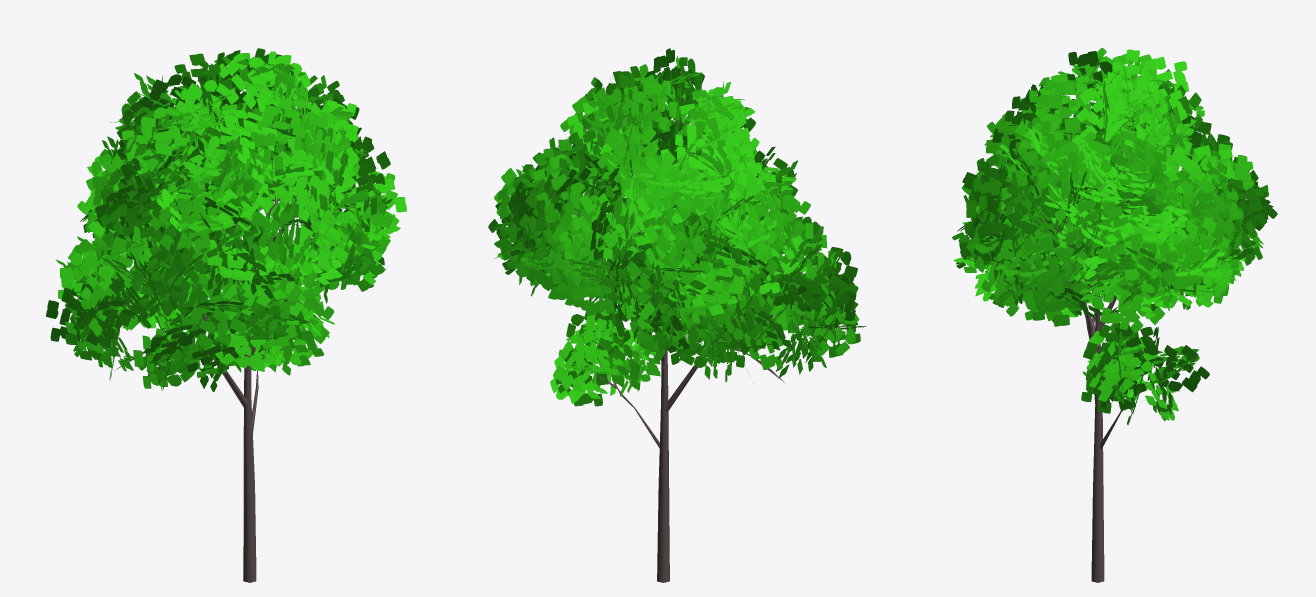
File: tree_deciduous_02.glb
The picture shows the model from 3 angles, left to right: view 1: azimuth 30°, elevation 25°; view 2: azimuth 150°, elevation 25°; view 3: azimuth 270°, elevation 25°; orthographic projection.
Parts seen in each view (by area): view 1: env; view 2: env; view 3: env.
Boxes of the visible parts, x1,y1,x2,y2 form: env: [46, 48, 406, 582]; env: [488, 48, 866, 582]; env: [952, 47, 1277, 582].
Size of the model in its own units: 3.55 by 4.94 by 3.12.
Materials: 1 (1 with a texture image).
